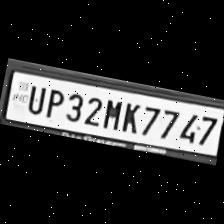2: (81, 92, 105, 127)
3: (62, 88, 86, 123)
4: (173, 109, 200, 145)
7: (153, 105, 179, 140), (194, 111, 217, 146), (138, 102, 160, 138)
K: (116, 98, 142, 134)
M: (100, 96, 124, 130)
P: (41, 84, 66, 120)
U: (22, 80, 48, 116)
